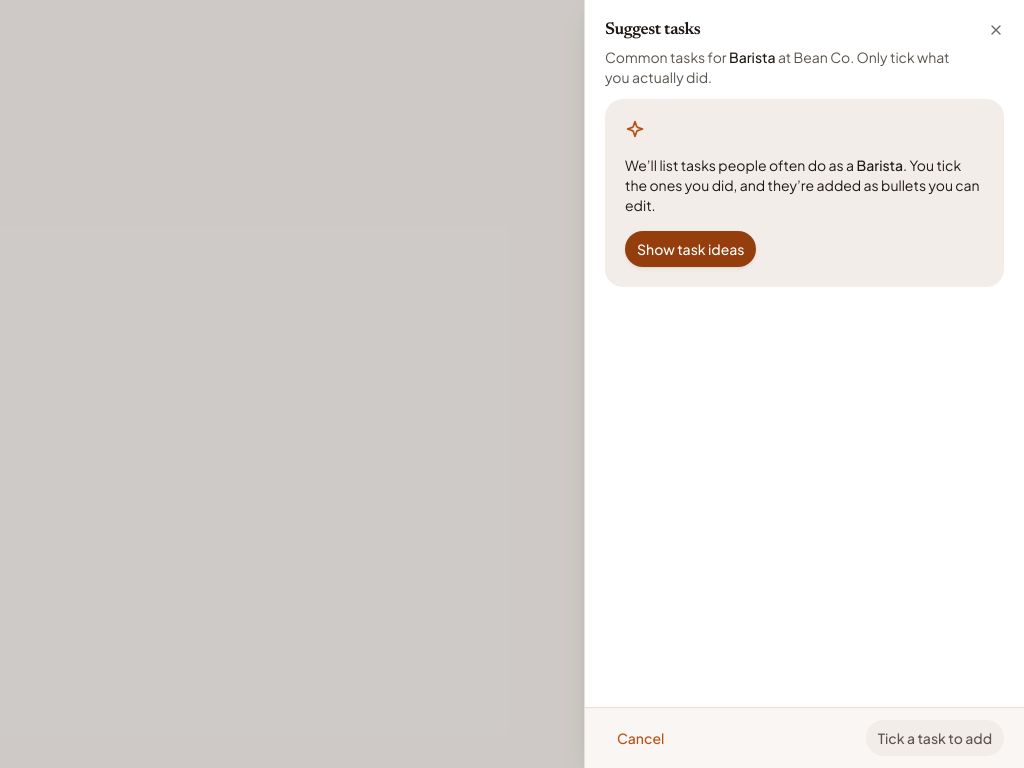
Test case: SuggestTasksPanel › shows the limit message when free suggestions have run out
Click the button "Show task ideas".
click(691, 249)  # box [625,231,756,267]
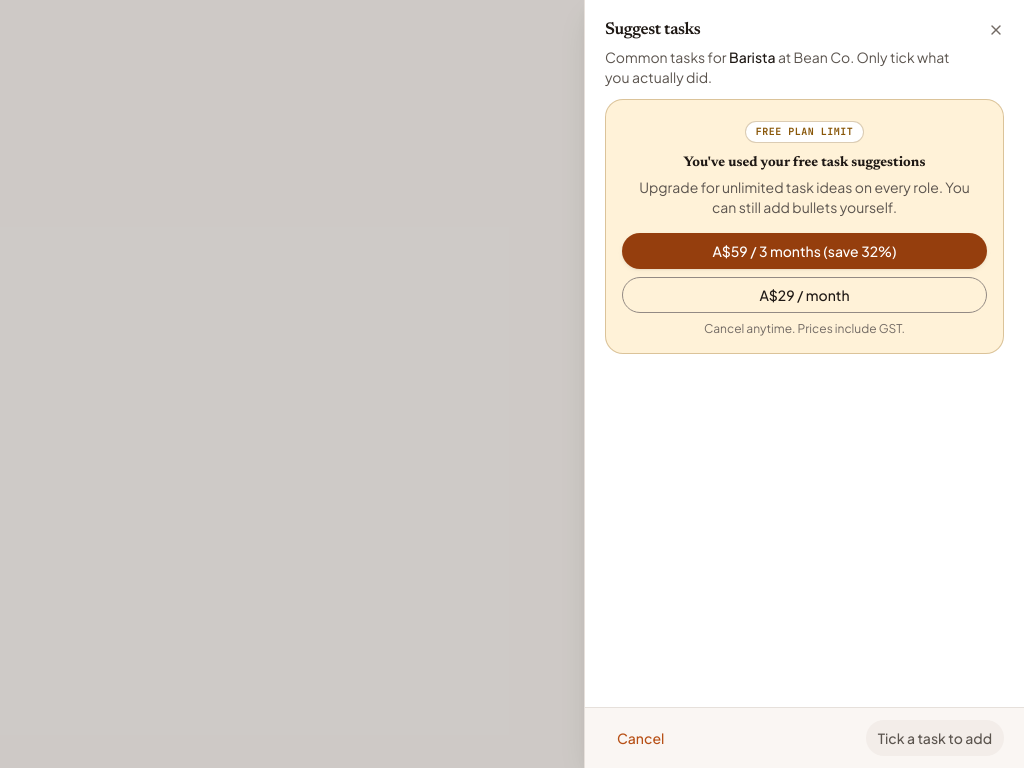
Result: the heading "You've used your free task suggestions" is shown at [684,156,925,170]
